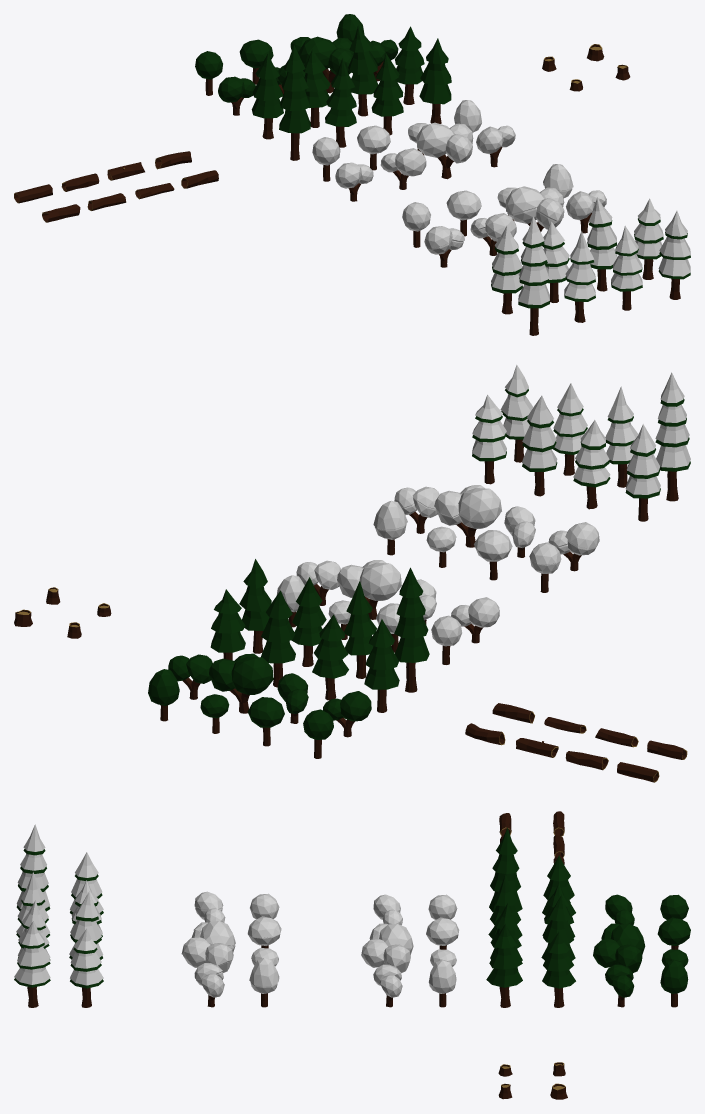
File: Trees.obj
The picture shows the model from 3 angles, top to bottom: view 1: azimuth 30°, elevation 25°; view 2: azimuth 150°, elevation 25°; view 3: azimuth 270°, elevation 25°; orthographic projection. The views are drawn at different scales.
Visible parts, largest first — view 1: Tall_Snowy_Tree-05, Tall_Tree-05, Small_Autumn_Tree-07, Small_Snowy_Tree-07, Tall_Snowy_Tree-08, Tall_Snowy_Tree-01, Tall_Snowy_Tree-06, Tall_Snowy_Tree-03, Tall_Tree-08, Tall_Snowy_Tree-07, Tall_Tree-01, Tall_Tree-03 (+24 smaller); view 2: Tall_Snowy_Tree-05, Tall_Tree-05, Small_Snowy_Tree-07, Small_Tree-07, Tall_Snowy_Tree-03, Small_Autumn_Tree-07, Tall_Snowy_Tree-01, Tall_Snowy_Tree-04, Tall_Tree-03, Tall_Snowy_Tree-02, Tall_Tree-01, Tall_Snowy_Tree-07 (+25 smaller); view 3: Small_Snowy_Tree-07, Tall_Snowy_Tree-08, Small_Tree-07, Small_Autumn_Tree-07, Tall_Tree-08, Tall_Snowy_Tree-04, Tall_Tree-04, Tall_Snowy_Tree-05, Tall_Tree-05, Tall_Snowy_Tree-03, Tall_Tree-03, Small_Snowy_Tree-04 (+21 smaller).
Part boxes in pixels (x1=…): Tall_Snowy_Tree-05: x1=518, y1=216, x2=549, y2=335; Tall_Tree-05: x1=279, y1=44, x2=310, y2=160; Small_Autumn_Tree-07: x1=416, y1=122, x2=473, y2=179; Small_Snowy_Tree-07: x1=506, y1=186, x2=564, y2=231; Tall_Snowy_Tree-08: x1=658, y1=210, x2=690, y2=299; Tall_Snowy_Tree-01: x1=491, y1=225, x2=522, y2=314; Tall_Snowy_Tree-06: x1=564, y1=230, x2=595, y2=322; Tall_Snowy_Tree-03: x1=587, y1=197, x2=617, y2=291; Tall_Tree-08: x1=419, y1=38, x2=451, y2=123; Tall_Snowy_Tree-07: x1=611, y1=225, x2=642, y2=310; Tall_Tree-01: x1=251, y1=54, x2=283, y2=139; Tall_Tree-03: x1=348, y1=25, x2=378, y2=116; Tall_Snowy_Tree-05: x1=655, y1=372, x2=690, y2=501; Tall_Tree-05: x1=394, y1=567, x2=429, y2=692; Small_Snowy_Tree-07: x1=434, y1=485, x2=501, y2=547; Small_Tree-07: x1=209, y1=653, x2=273, y2=713; Tall_Snowy_Tree-03: x1=522, y1=395, x2=557, y2=496; Small_Autumn_Tree-07: x1=337, y1=560, x2=401, y2=619; Tall_Snowy_Tree-01: x1=625, y1=424, x2=660, y2=521; Tall_Snowy_Tree-04: x1=472, y1=394, x2=506, y2=484; Tall_Tree-03: x1=261, y1=590, x2=295, y2=687; Tall_Snowy_Tree-02: x1=573, y1=420, x2=610, y2=509; Tall_Tree-01: x1=364, y1=619, x2=399, y2=712; Tall_Snowy_Tree-07: x1=553, y1=383, x2=587, y2=475; Small_Snowy_Tree-07: x1=181, y1=921, x2=235, y2=972; Tall_Snowy_Tree-08: x1=14, y1=921, x2=50, y2=1007; Small_Tree-07: x1=593, y1=924, x2=645, y2=972; Small_Autumn_Tree-07: x1=361, y1=924, x2=413, y2=972; Tall_Tree-08: x1=486, y1=924, x2=522, y2=1007; Tall_Snowy_Tree-04: x1=70, y1=928, x2=103, y2=1007; Tall_Tree-04: x1=542, y1=931, x2=575, y2=1007; Tall_Snowy_Tree-05: x1=16, y1=824, x2=50, y2=911; Tall_Tree-05: x1=489, y1=827, x2=522, y2=912; Tall_Snowy_Tree-03: x1=69, y1=891, x2=103, y2=959; Tall_Tree-03: x1=541, y1=895, x2=575, y2=960; Small_Snowy_Tree-04: x1=249, y1=958, x2=279, y2=1007.
Size of the model in its own units: 75.17 by 14.71 by 75.97.
